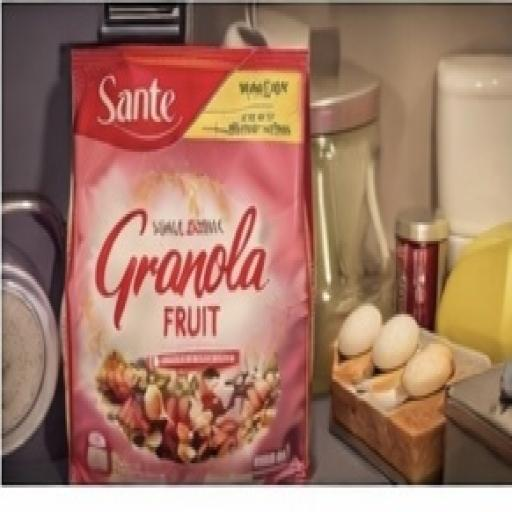granola: (48, 37, 326, 482)
